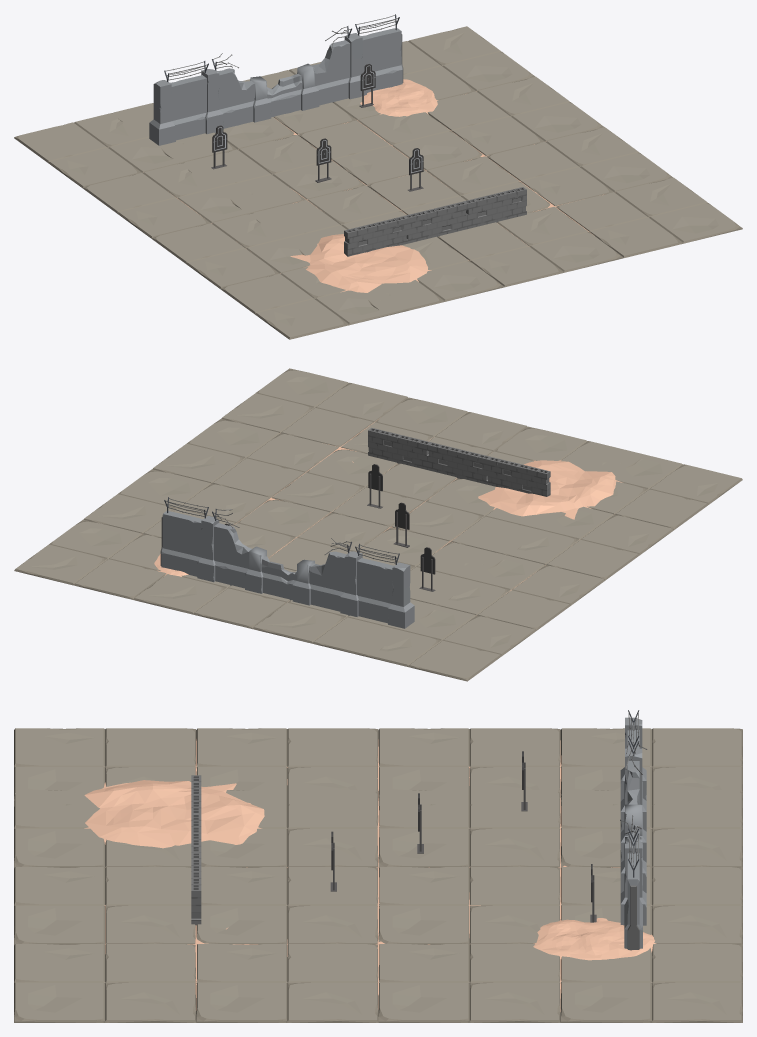
Rendered from shootingRange.glb.
3 renders of one model, top to bottom at view 1: azimuth 30°, elevation 25°; view 2: azimuth 150°, elevation 25°; view 3: azimuth 270°, elevation 25°, orthographic. The views are drawn at different scales.
Visible parts, largest first — view 1: SM_Env_Concrete_Base_01.010, SM_Env_Concrete_Base_01.004, SM_Env_Concrete_Base_01.009, SM_Env_Concrete_Base_01.011, SM_Env_Concrete_Base_01.005, SM_Env_Concrete_Base_01.006, SM_Env_Concrete_Base_01.016, SM_Env_Concrete_Base_01.013, SM_Env_Concrete_Base_01.015, SM_Env_Concrete_Base_01.014, SM_Env_Concrete_Base_01.012, SM_Env_Concrete_Base_01.001 (+19 smaller); view 2: SM_Env_Concrete_Base_01.010, SM_Env_Concrete_Base_01.009, SM_Env_Concrete_Base_01.016, SM_Env_Concrete_Base_01.015, SM_Env_Concrete_Base_01.001, SM_Env_Concrete_Base_01.012, SM_Env_Concrete_Base_01.013, SM_Env_Concrete_Base_01.014, SM_Env_Concrete_Base_01.011, SM_Env_Concrete_Base_01.005, SM_Env_Concrete_Base_01.002, SM_Env_Concrete_Base_01.004 (+18 smaller); view 3: SM_Env_Concrete_Base_01.010, SM_Env_Concrete_Base_01.009, SM_Env_Concrete_Base_01.011, SM_Env_Concrete_Base_01.004, SM_Env_Concrete_Base_01.001, SM_Env_Concrete_Base_01.005, SM_Env_Concrete_Base_01.006, SM_Env_Concrete_Base_01.012, SM_Env_Concrete_Base_01.015, SM_Env_Concrete_Base_01.013, SM_Env_Concrete_Base_01.007, SM_Env_Concrete_Base_01.016 (+14 smaller).
Boxes of the visible parts, box(x1,y1,x2,y2) form: SM_Env_Concrete_Base_01.010: box(556, 177, 742, 257); SM_Env_Concrete_Base_01.004: box(437, 206, 623, 287); SM_Env_Concrete_Base_01.009: box(486, 127, 672, 206); SM_Env_Concrete_Base_01.011: box(427, 76, 603, 155); SM_Env_Concrete_Base_01.005: box(298, 112, 482, 185); SM_Env_Concrete_Base_01.006: box(182, 135, 365, 213); SM_Env_Concrete_Base_01.016: box(14, 108, 195, 188); SM_Env_Concrete_Base_01.013: box(152, 210, 317, 288); SM_Env_Concrete_Base_01.015: box(83, 158, 262, 238); SM_Env_Concrete_Base_01.014: box(220, 266, 408, 339); SM_Env_Concrete_Base_01.012: box(402, 26, 535, 100); SM_Env_Concrete_Base_01.001: box(367, 156, 550, 214); SM_Env_Concrete_Base_01.010: box(221, 368, 408, 446); SM_Env_Concrete_Base_01.009: box(152, 419, 338, 497); SM_Env_Concrete_Base_01.016: box(350, 603, 535, 681); SM_Env_Concrete_Base_01.015: box(419, 552, 604, 630); SM_Env_Concrete_Base_01.001: box(272, 449, 456, 527); SM_Env_Concrete_Base_01.012: box(14, 519, 166, 599); SM_Env_Concrete_Base_01.013: box(490, 506, 673, 580); SM_Env_Concrete_Base_01.014: box(587, 452, 742, 529); SM_Env_Concrete_Base_01.011: box(83, 469, 269, 538); SM_Env_Concrete_Base_01.005: box(233, 499, 389, 571); SM_Env_Concrete_Base_01.002: box(391, 478, 565, 554); SM_Env_Concrete_Base_01.004: box(341, 397, 527, 455); SM_Env_Concrete_Base_01.010: box(14, 944, 196, 1022); SM_Env_Concrete_Base_01.009: box(196, 944, 378, 1022); SM_Env_Concrete_Base_01.011: box(378, 944, 560, 1022); SM_Env_Concrete_Base_01.004: box(14, 867, 195, 945); SM_Env_Concrete_Base_01.001: box(196, 867, 378, 944); SM_Env_Concrete_Base_01.005: box(378, 867, 560, 944); SM_Env_Concrete_Base_01.006: box(378, 790, 560, 867); SM_Env_Concrete_Base_01.012: box(560, 944, 742, 1022); SM_Env_Concrete_Base_01.015: box(378, 728, 560, 805); SM_Env_Concrete_Base_01.013: box(196, 728, 378, 805); SM_Env_Concrete_Base_01.007: box(561, 790, 742, 867); SM_Env_Concrete_Base_01.016: box(560, 728, 742, 805).
Bounding box in the file's own units: 19 × 2.83 × 20.
1 material, 1 textured.
